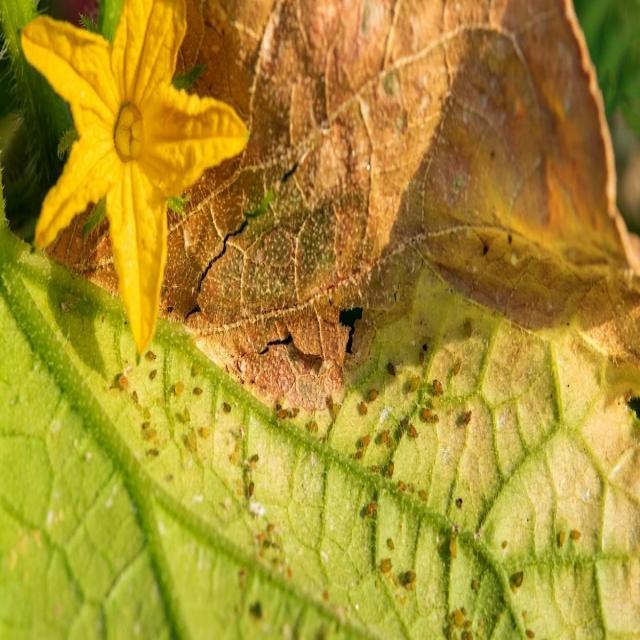Aphids: (324, 359, 493, 478), (106, 318, 220, 484), (223, 384, 310, 586), (352, 497, 425, 603), (493, 526, 546, 632), (438, 510, 479, 640), (550, 508, 586, 572)
